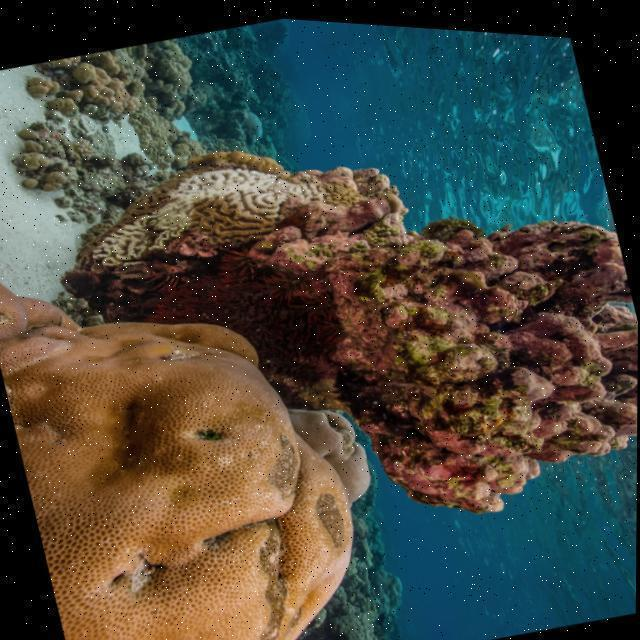Bleached Coral: (95, 162, 321, 266)
Healthy Coral: (0, 294, 390, 640), (29, 38, 152, 128), (135, 33, 198, 122), (14, 114, 73, 194)
